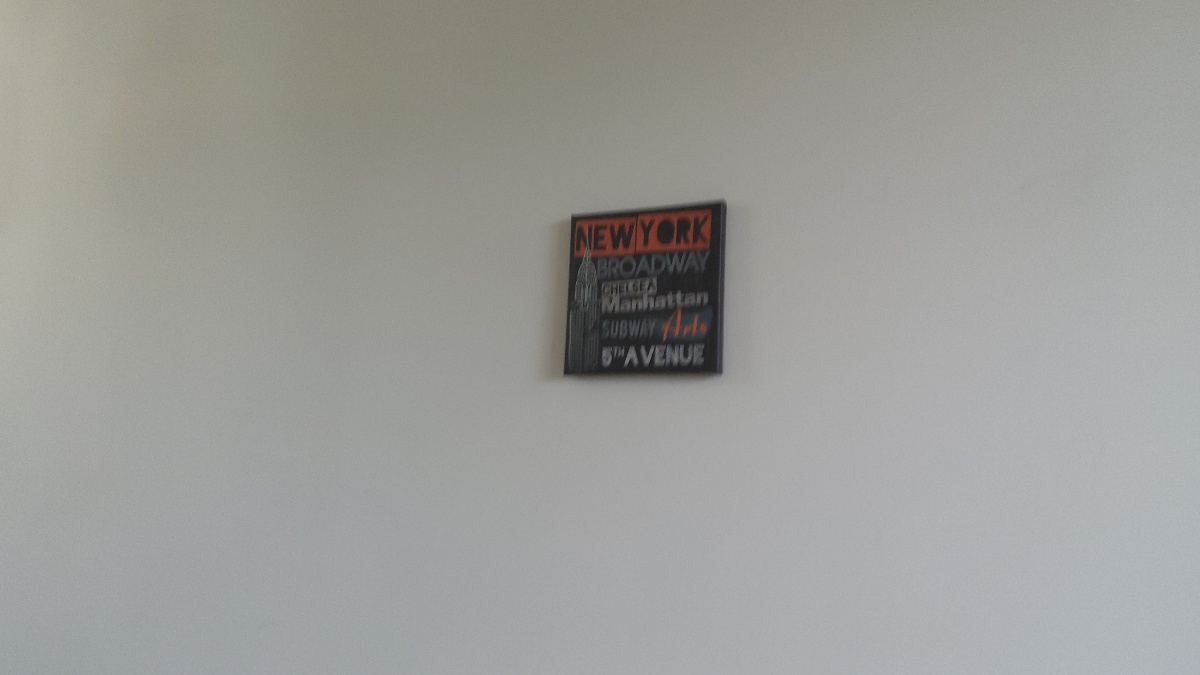poster: (554, 200, 732, 384)
